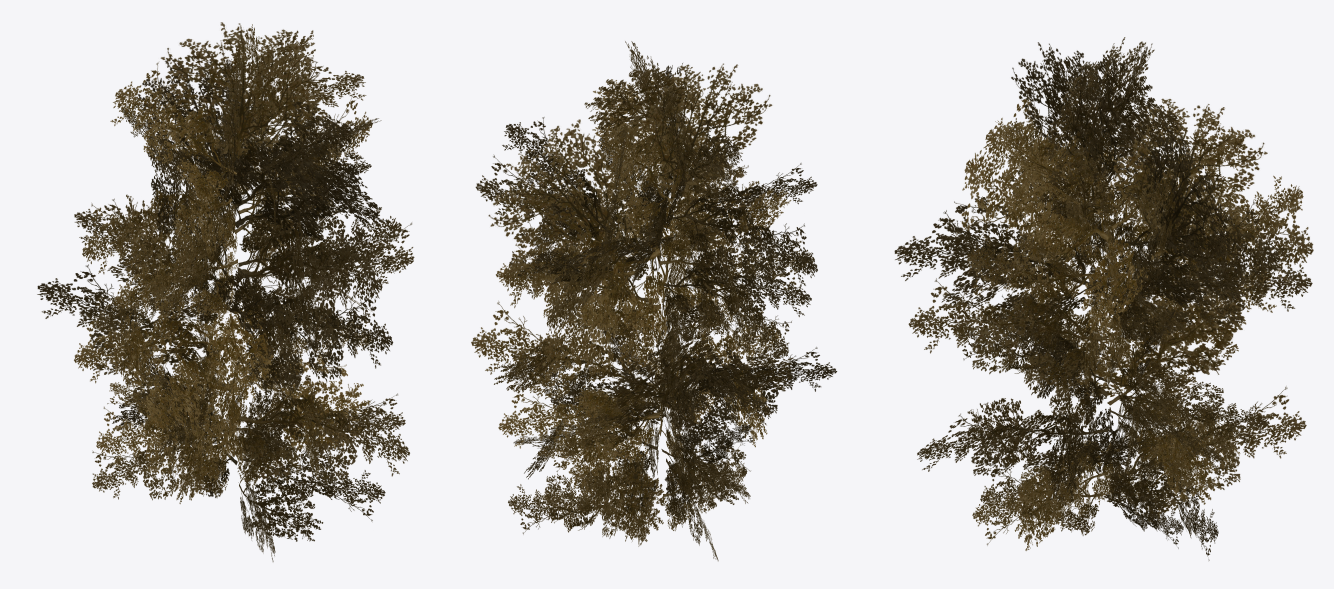
File: forest_shrub_02.glb
3 renders of one model, left to right at view 1: azimuth 30°, elevation 25°; view 2: azimuth 150°, elevation 25°; view 3: azimuth 270°, elevation 25°, orthographic. The views are drawn at different scales.
Visible parts, largest first — view 1: Tree_Branches_02_Tree_Branches_02_0; view 2: Tree_Branches_02_Tree_Branches_02_0; view 3: Tree_Branches_02_Tree_Branches_02_0.
Boxes of the visible parts, left/top/right/bottom form: Tree_Branches_02_Tree_Branches_02_0: left=37, top=22, right=414, bottom=561; Tree_Branches_02_Tree_Branches_02_0: left=471, top=41, right=836, bottom=561; Tree_Branches_02_Tree_Branches_02_0: left=894, top=37, right=1313, bottom=560.
Size of the model in its own units: 1.73 by 2.5 by 2.01.
1 material, 1 textured.
